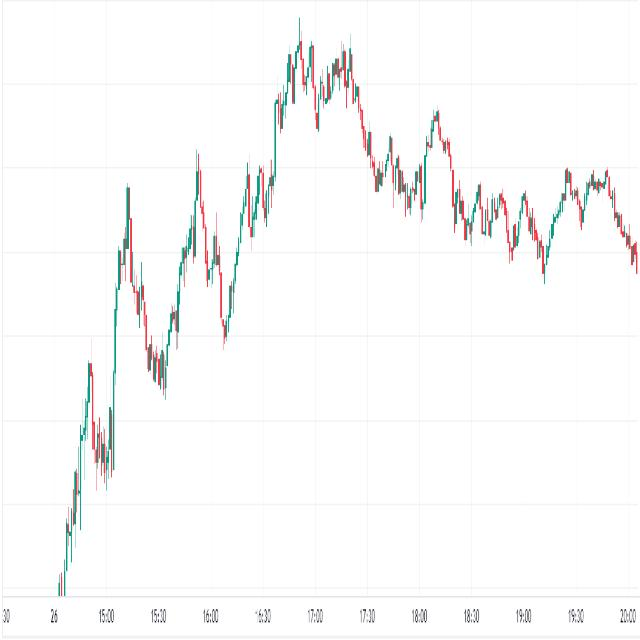Ascending-Triangle: (87, 136, 282, 506)
